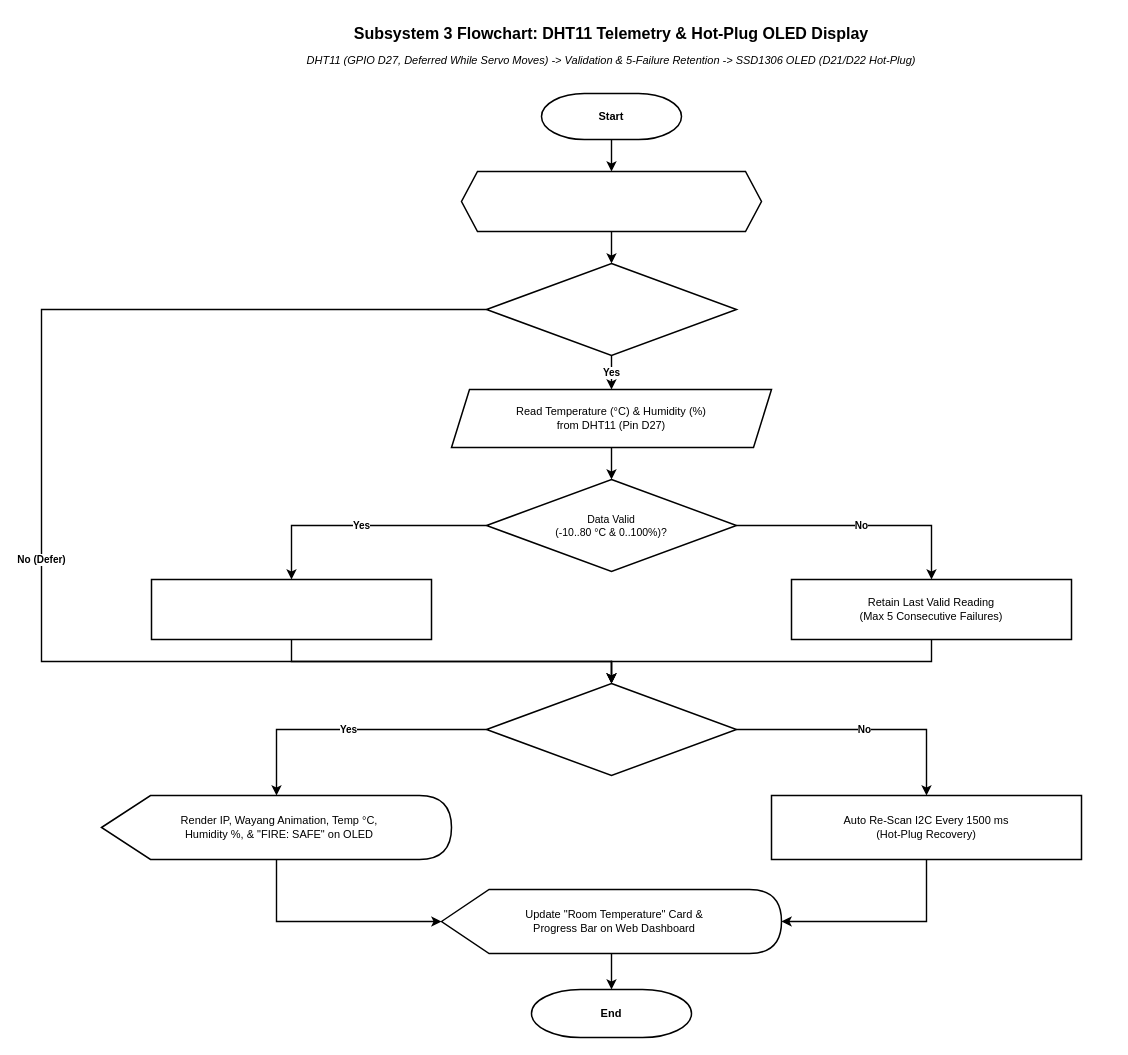
Some shapes in this 1128 by 1055 pixel diagram are drawn without their labels. The shapes that lost their labels are listed below. From the top down, each one's centre as x and y in pixels, then its label:
At (611,201): "Initialize DHT11 (D27) & OLED I2C Bus (D21/D22)".
At (611,309): "Door Stationary & DHT11 Interval >= 2.1 s?".
At (291,609): "Store New Temp & Humidity (Reset Failure Counter)".
At (611,729): "OLED Display Active (0x3C / 0x3D)?".
